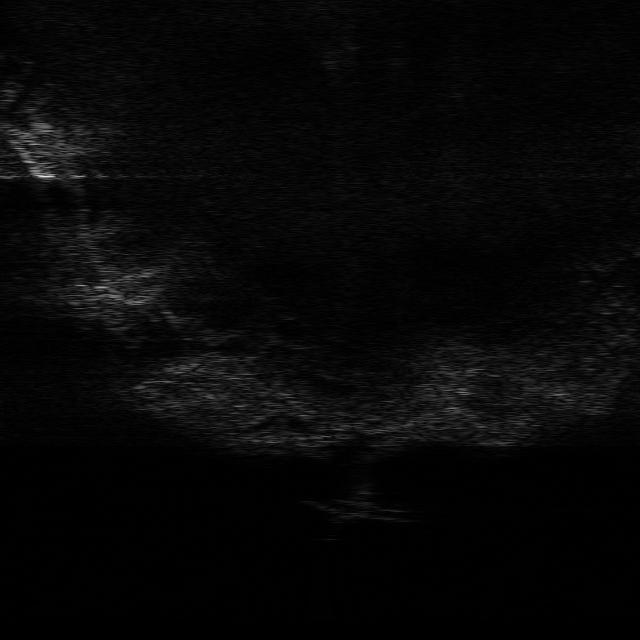plane: (305, 497, 410, 525)
